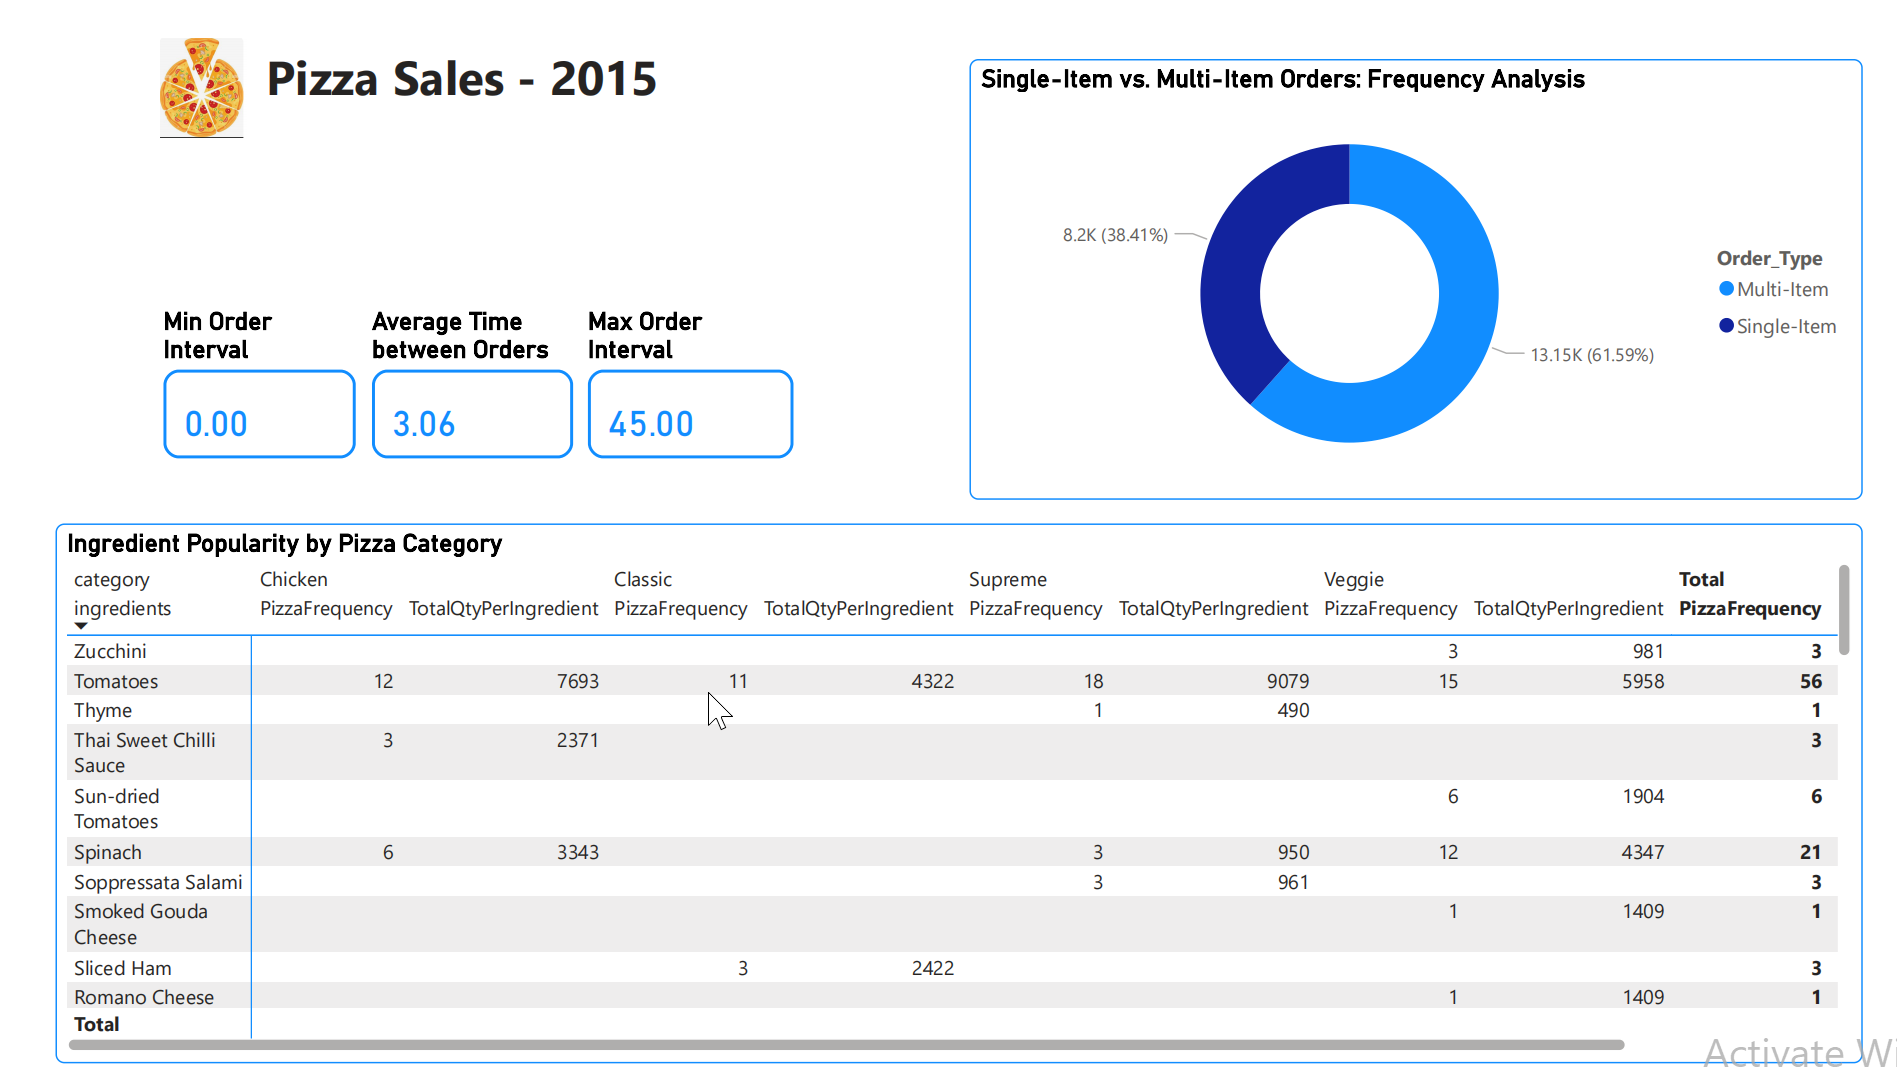

The dashboard page shown, as its layout file describes it:
{"tool":"powerbi","page":{"name":"SizeIngredient&OrderFrequencyTiming_Dashboard","canvas":[1280,720],"ordinal":3},"visuals":[{"type":"donutChart","title":"Single-Item vs. Multi-Item Orders: Frequency Analysis","fields":{"Category":["Order_Details.Order_Type"],"Y":["Count(Order_Details.order_id)"]},"box":[640.5,24.3,604.1,297.3],"z":0},{"type":"cardVisual","title":"Average Time between Orders","fields":{"Data":["Orders.AvgOrderInterval"]},"box":[231.5,190.8,146.8,107.8],"z":1000},{"type":"cardVisual","title":"Min Order Interval","fields":{"Data":["Orders.Min_Order_Interval"]},"box":[91.2,190.8,140.3,107.8],"z":2000},{"type":"cardVisual","title":"Max Order Interval","fields":{"Data":["Orders.MaxOrderInterval"]},"box":[378.4,190.5,148.6,108.1],"z":3000},{"type":"pivotTable","title":"Ingredient Popularity by Pizza Category","fields":{"Rows":["Dim_Ingredients.ingredients"],"Columns":["Pizza_Types.category"],"Values":["Dim_Ingredients.PizzaFrequency","Dim_Ingredients.TotalQtyPerIngredient"]},"box":[23,337.8,1221.6,364.9],"z":4000},{"type":"textbox","box":[0,7.8,597.4,70.1],"z":5000},{"type":"image","box":[88.3,5.2,70.1,76.6],"z":6000}]}

Visuals, with their boxes in screenshot pixels (x1, y1, x2, y2), scaled from the page's 1280x720 canvas onto the 1897x1085 screenshot:
"Single-Item vs. Multi-Item Orders: Frequency Analysis" donutChart: pyautogui.locateOnScreen(949, 37, 1845, 485)
"Average Time between Orders" cardVisual: pyautogui.locateOnScreen(343, 288, 561, 450)
"Min Order Interval" cardVisual: pyautogui.locateOnScreen(135, 288, 343, 450)
"Max Order Interval" cardVisual: pyautogui.locateOnScreen(561, 287, 781, 450)
"Ingredient Popularity by Pizza Category" pivotTable: pyautogui.locateOnScreen(34, 509, 1845, 1059)
textbox: pyautogui.locateOnScreen(0, 12, 885, 117)
image: pyautogui.locateOnScreen(131, 8, 235, 123)
